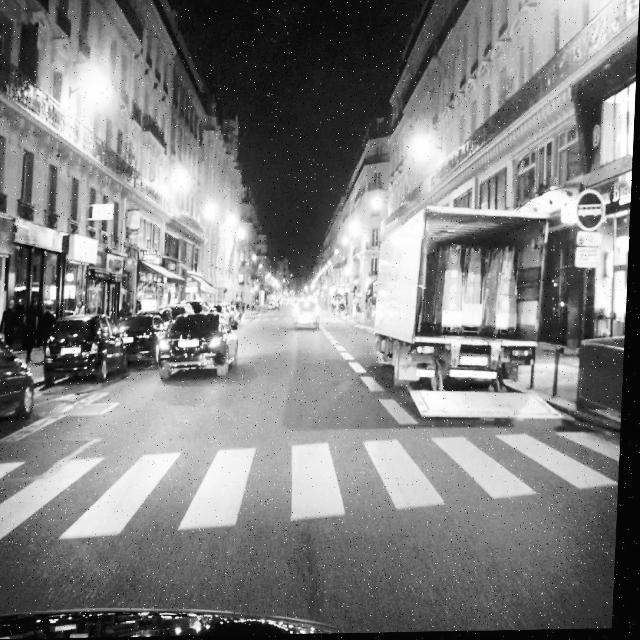Truck: (368, 207, 578, 427)
